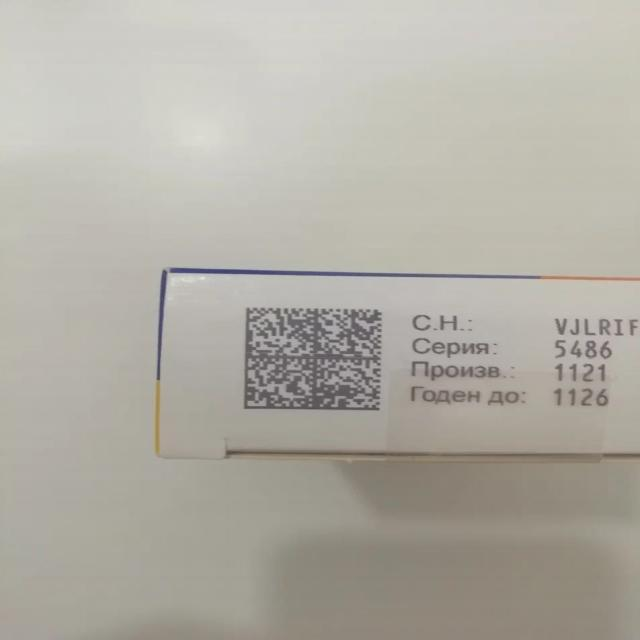datamatrix: (243, 306, 386, 414)
